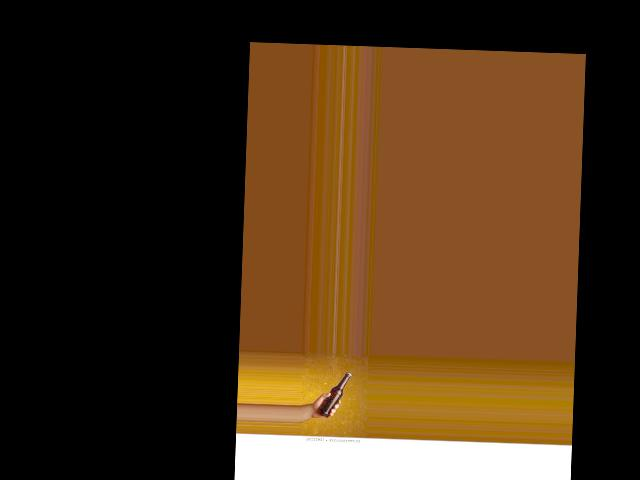beer: (315, 371, 351, 418)
